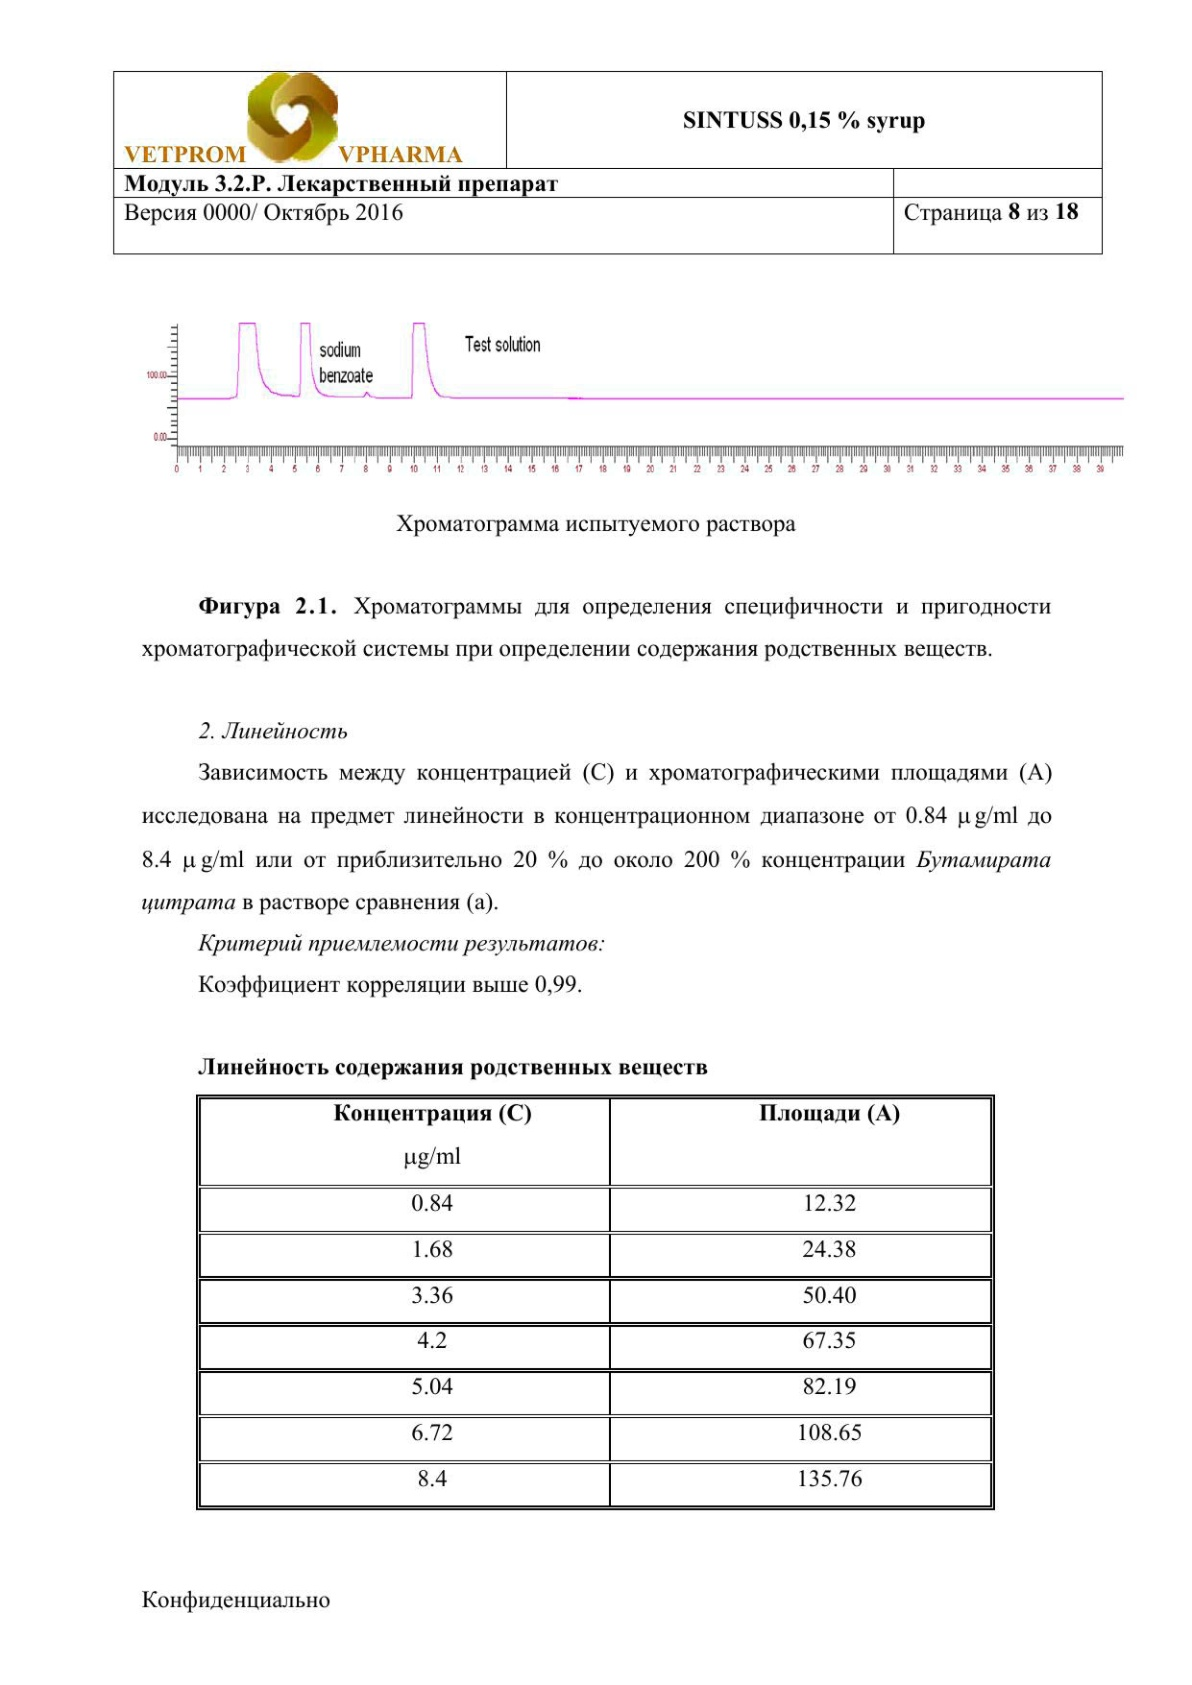full_lined: (194, 1093, 995, 1512)
merged_cells: (112, 68, 1104, 255)
